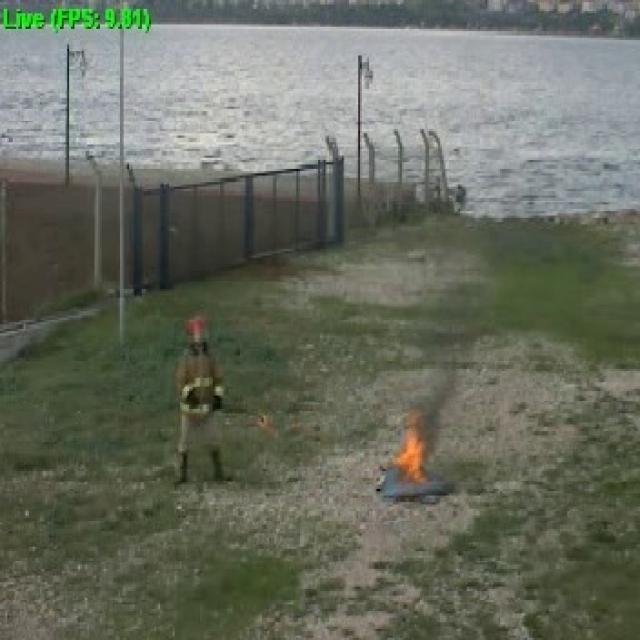fire: (386, 417, 429, 483)
